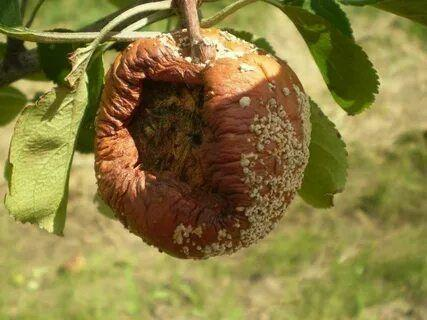Apple: (95, 31, 311, 258)
